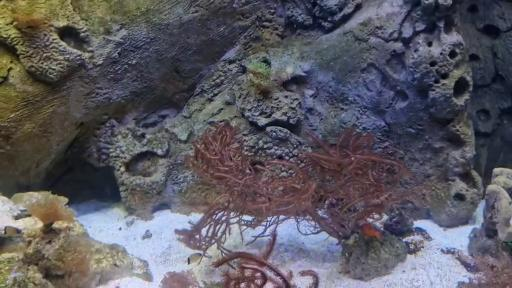Fish: (361, 223, 383, 241), (188, 253, 211, 264), (4, 226, 21, 236)
